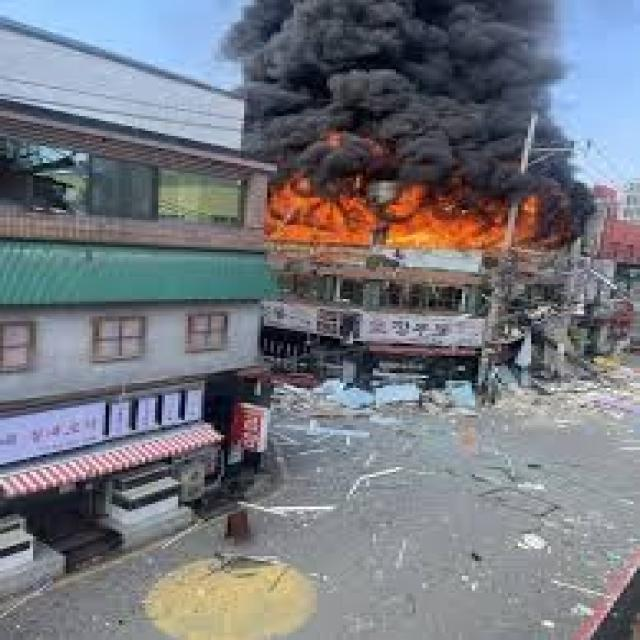explosion: (231, 0, 597, 318)
